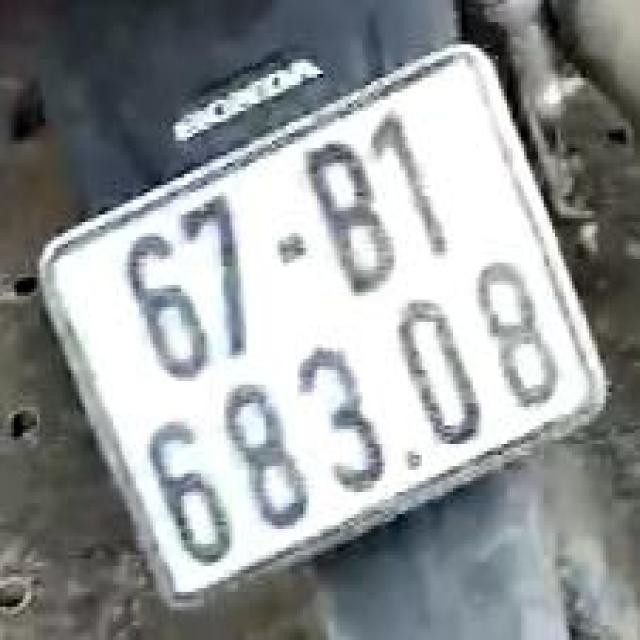0: (379, 283, 502, 455)
1: (364, 104, 466, 268)
3: (286, 334, 403, 511)
6: (131, 406, 249, 582), (111, 219, 220, 395)
7: (175, 184, 271, 367)
8: (211, 368, 326, 547), (462, 250, 577, 418)
B: (294, 126, 418, 309)
